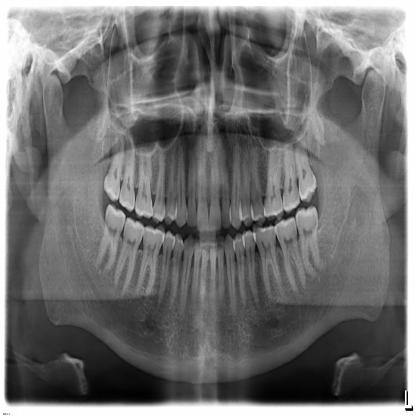canine: (180, 235, 194, 316), (230, 145, 243, 229), (224, 234, 237, 316), (175, 148, 188, 227)
central incisor: (208, 145, 222, 231), (197, 143, 210, 231), (201, 242, 209, 301), (209, 243, 216, 300)
lateral incisor: (218, 148, 231, 228), (186, 151, 197, 226), (215, 239, 225, 299), (193, 241, 201, 298)
molar: (274, 216, 306, 293), (114, 218, 142, 300), (254, 226, 283, 299), (95, 205, 125, 274), (134, 226, 163, 295), (295, 205, 320, 276), (264, 146, 283, 217), (104, 136, 124, 200), (135, 151, 153, 217), (282, 144, 300, 210), (297, 144, 317, 201), (120, 139, 136, 210)
premolar: (242, 229, 260, 306), (239, 148, 254, 228), (158, 231, 174, 305), (251, 148, 266, 222), (234, 232, 247, 306), (152, 150, 165, 222), (171, 234, 184, 306), (163, 155, 176, 222)
